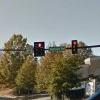Traffic light: (26, 31, 78, 64)
